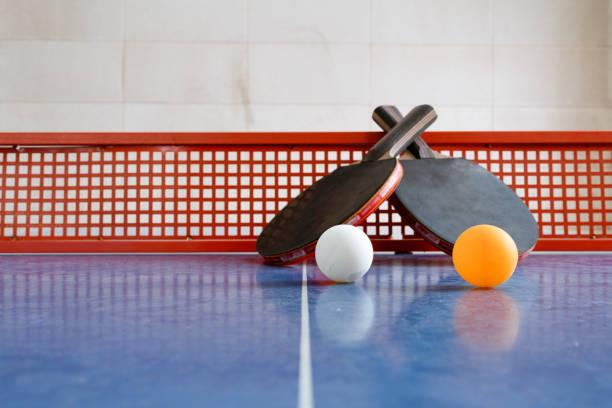ball_pingpong: (449, 223, 522, 289), (315, 223, 377, 282)
